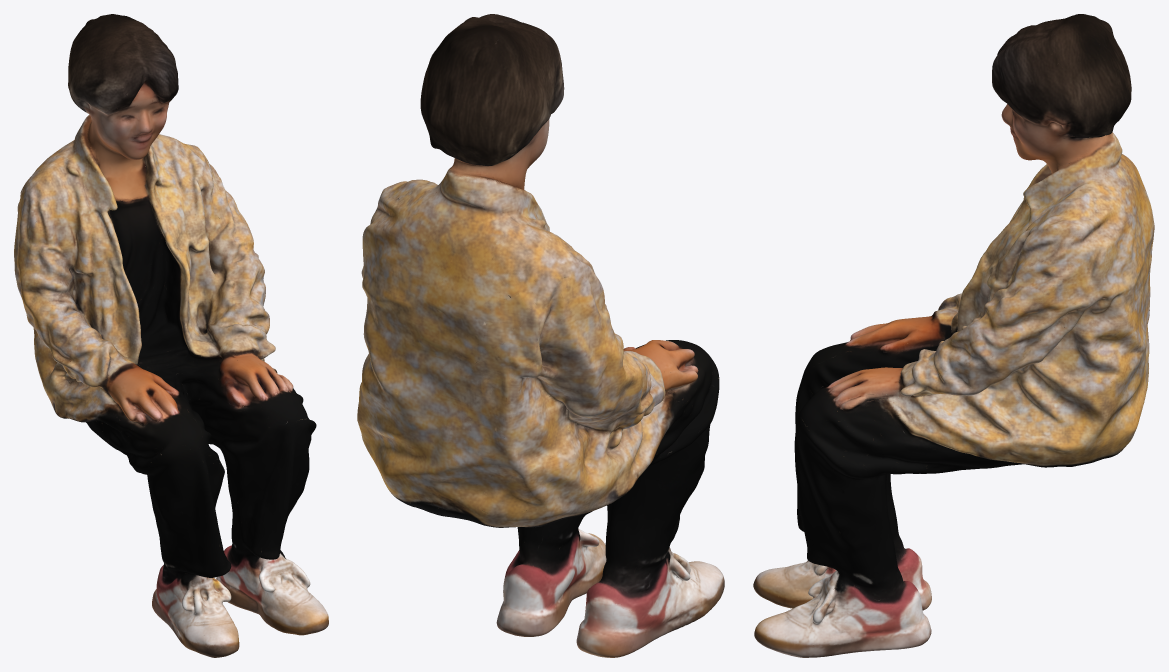
The model's file is sitting_owada.glb.
3 renders of one model, left to right at view 1: azimuth 30°, elevation 25°; view 2: azimuth 150°, elevation 25°; view 3: azimuth 270°, elevation 25°, orthographic. The views are drawn at different scales.
Parts seen in each view (by area): view 1: world; view 2: world; view 3: world.
Part boxes in pixels (<box>): world: <box>14,14,328,657</box>; world: <box>357,14,724,657</box>; world: <box>753,14,1154,657</box>.
Bounding box in the file's own units: 0.4082 × 1 × 0.6121.
Materials: 1 (1 with a texture image).
